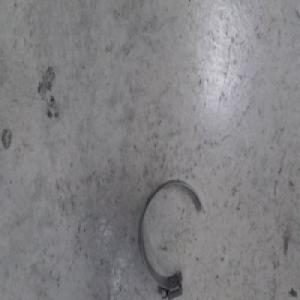AdjustableClamp: (138, 177, 206, 293)
